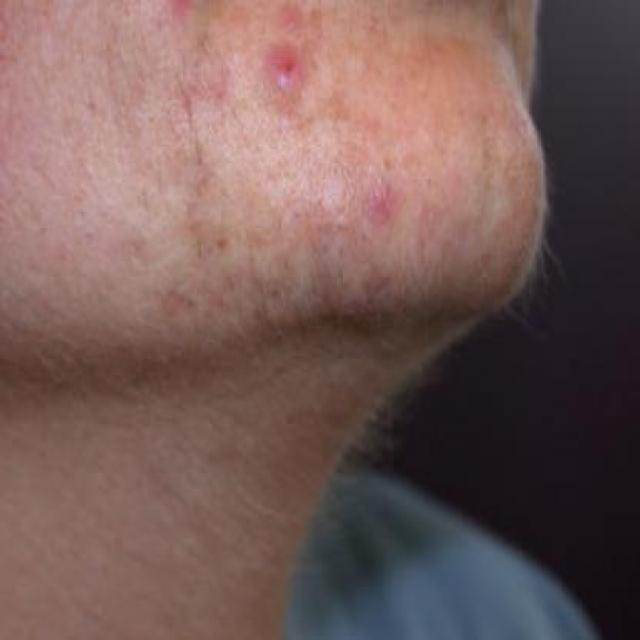nodules: (269, 39, 306, 106)
papules: (354, 167, 401, 220)
